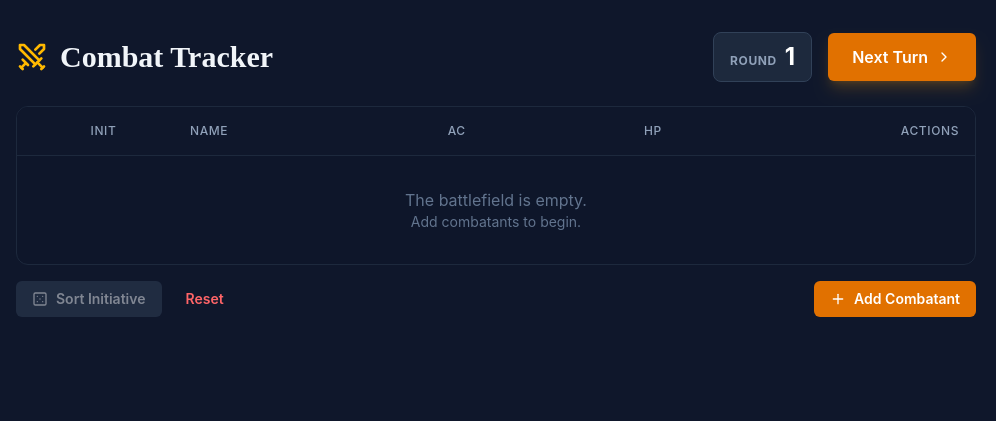
Test: roster add › pulls HP / AC / CR from an NPC stat string
What coordinates should you click on to do the following:
click the button "Add Combatant"
I would click on:
 (895, 299)
Its box is [814,281,976,317].
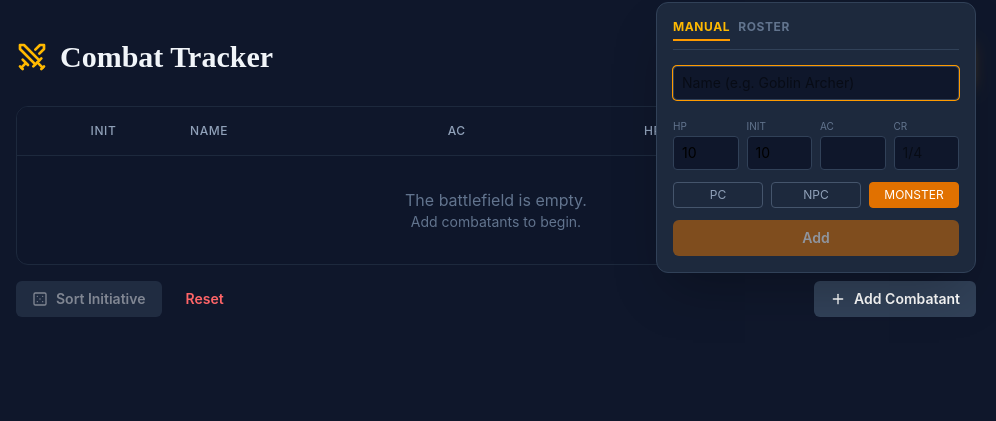
What coordinates should you click on to do the following:
click the button "Roster"
I would click on:
 (764, 30)
Its box is [738,19,790,41].
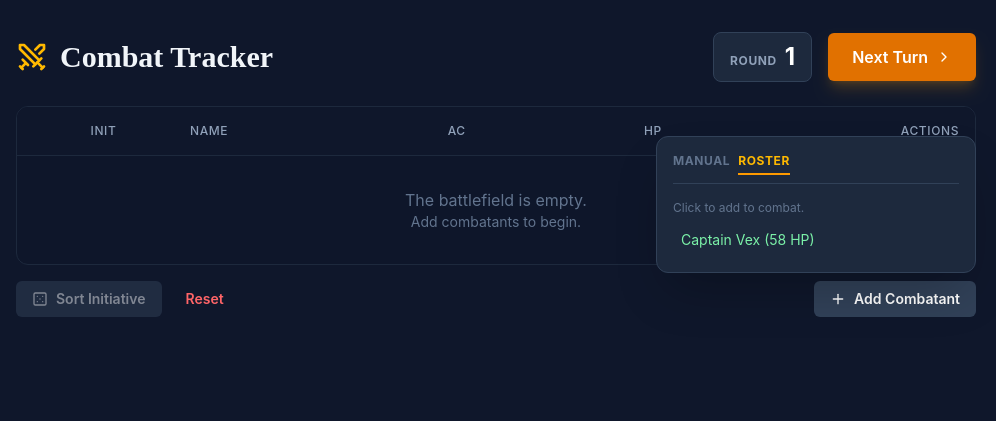
What coordinates should you click on to do the following:
click the button "Captain Vex (58 HP)"
I would click on:
 (816, 240)
Its box is [673,224,959,256].
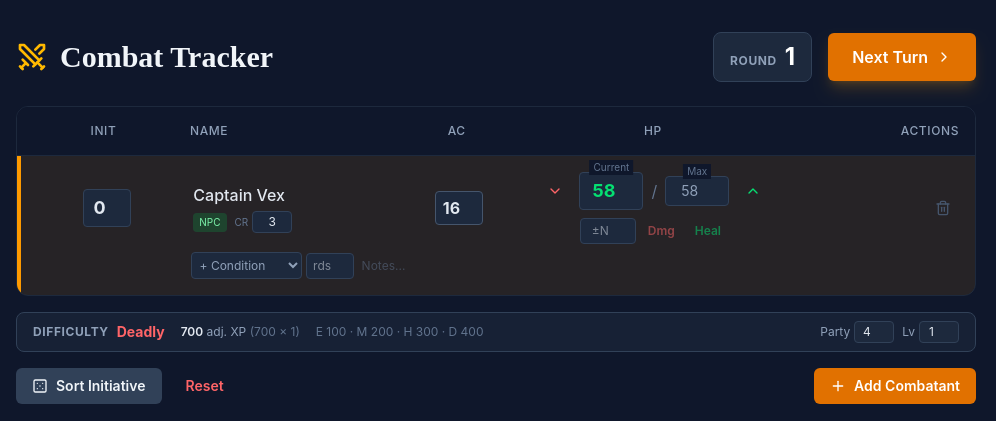
Expected: the number field named "Armor class for Captain Vex" holds "16", [435,191,483,225]
